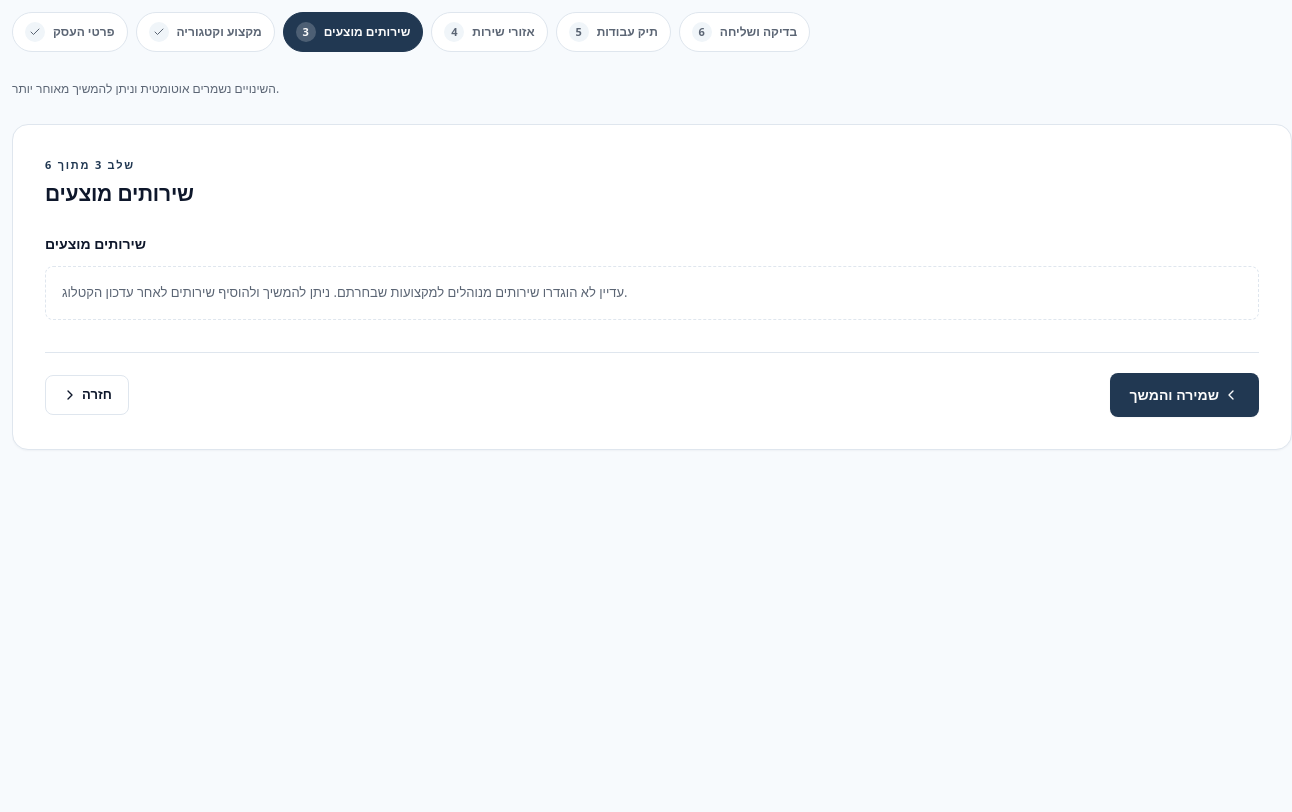
SupplierOnboardingWizard stage validation › advances stage 3 when the selected professions have no managed services
Expected: the text "עדיין לא הוגדרו שירותים מנוהלים למקצועות שבחרתם. ניתן להמשיך ולהוסיף שירותים לאחר עדכון הקטלוג." is shown, [62,283,628,301]
Click the button "שמירה והמשך": (1184, 394) [1110,372,1259,416]
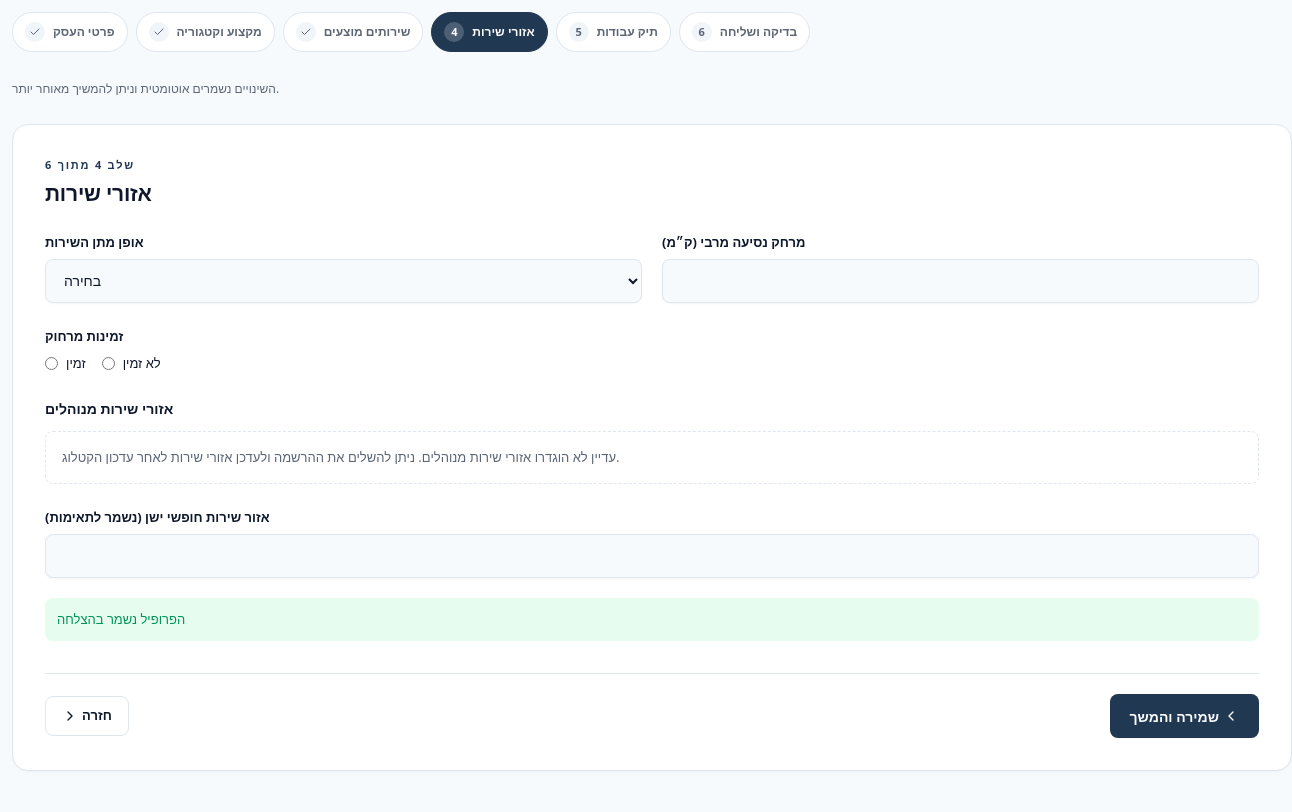
Expected: the heading "אזורי שירות" is shown, [45,178,152,206]
